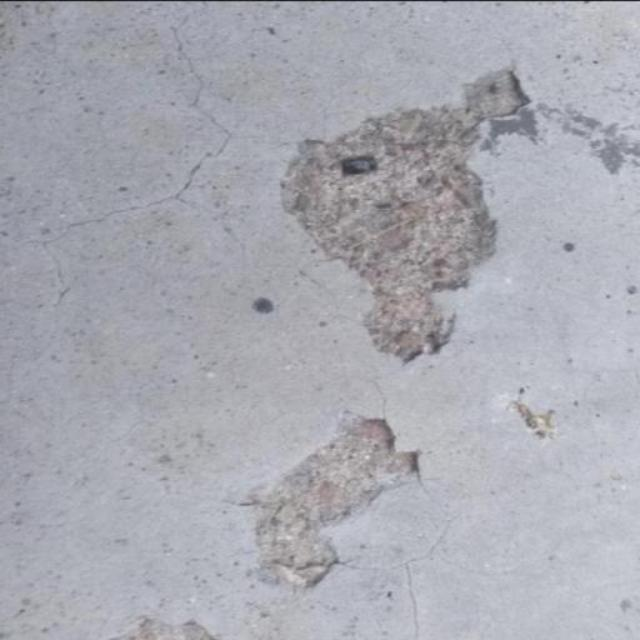D10: (278, 66, 537, 363), (254, 414, 421, 589)
